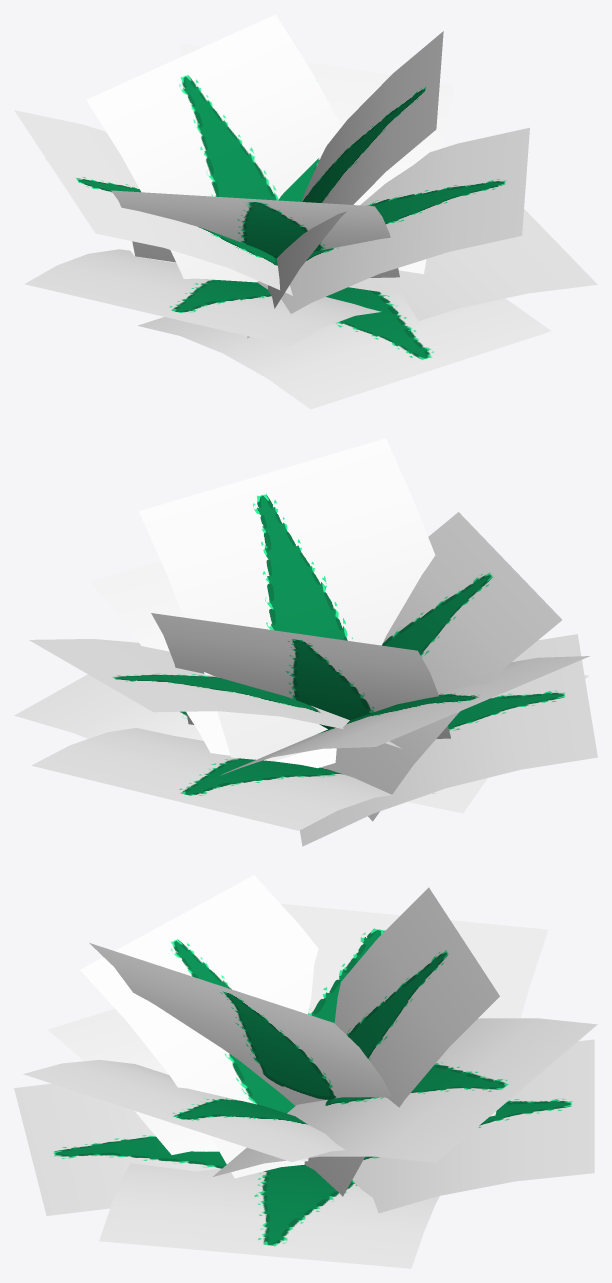
File: Plant 3.fbx
3 renders of one model, top to bottom at view 1: azimuth 30°, elevation 25°; view 2: azimuth 150°, elevation 25°; view 3: azimuth 270°, elevation 25°, orthographic. The views are drawn at different scales.
Parts seen in each view (by area): view 1: Plane007, Plane010, Plane005, Plane003, Plane009, Plane006, Plane002, Plane008, Plane004; view 2: Plane009, Plane008, Plane001, Plane003, Plane007, Plane004, Plane006, Plane005, Plane002, Plane010; view 3: Plane002, Plane008, Plane007, Plane004, Plane001, Plane009, Plane010, Plane005, Plane006, Plane003.
Part boxes in pixels (left/top/right/bottom): Plane007: left=86, top=14, right=341, bottom=282; Plane010: left=137, top=287, right=551, bottom=409; Plane005: left=247, top=127, right=529, bottom=338; Plane003: left=24, top=249, right=381, bottom=346; Plane009: left=268, top=31, right=443, bottom=308; Plane006: left=14, top=110, right=292, bottom=295; Plane002: left=348, top=209, right=597, bottom=321; Plane008: left=111, top=190, right=399, bottom=277; Plane004: left=179, top=42, right=453, bottom=274; Plane009: left=139, top=438, right=435, bottom=761; Plane008: left=321, top=512, right=561, bottom=821; Plane001: left=31, top=728, right=435, bottom=830; Plane003: left=300, top=634, right=597, bottom=846; Plane007: left=151, top=613, right=450, bottom=738; Plane004: left=29, top=639, right=401, bottom=748; Plane006: left=221, top=656, right=589, bottom=775; Plane005: left=90, top=561, right=336, bottom=768; Plane002: left=14, top=674, right=262, bottom=826; Plane010: left=407, top=675, right=588, bottom=813; Plane002: left=99, top=1163, right=439, bottom=1268; Plane008: left=80, top=875, right=318, bottom=1178; Plane007: left=304, top=887, right=499, bottom=1196; Plane004: left=213, top=1018, right=597, bottom=1176; Plane001: left=352, top=1039, right=594, bottom=1213; Plane009: left=89, top=943, right=391, bottom=1105; Plane010: left=14, top=1083, right=226, bottom=1215; Plane005: left=23, top=1060, right=345, bottom=1161; Plane006: left=280, top=903, right=548, bottom=1161; Plane003: left=48, top=1009, right=218, bottom=1154.
Bounding box in the file's own units: 90.02 × 40.04 × 83.23.
